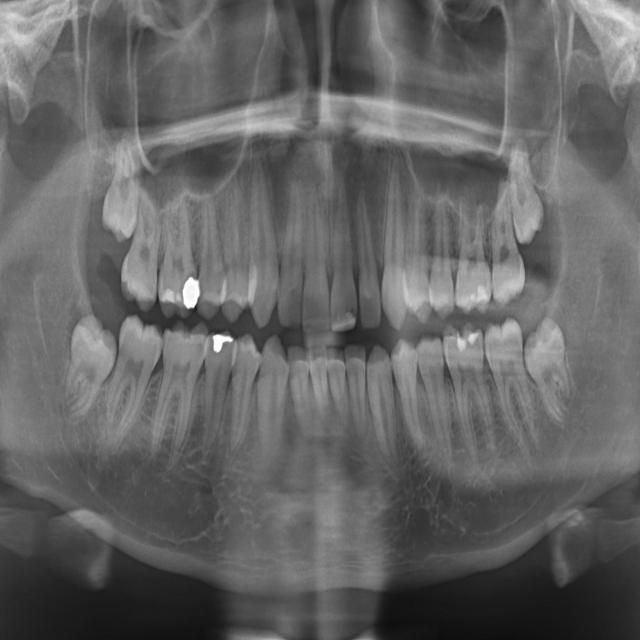AmalgamRestoration: (181, 272, 201, 311), (213, 332, 235, 357)
CompositeResinRestoration: (470, 277, 493, 305), (162, 282, 180, 310), (452, 328, 468, 353), (468, 328, 480, 349)
DentalCaries: (344, 298, 358, 331), (184, 260, 203, 284), (486, 336, 494, 364)
